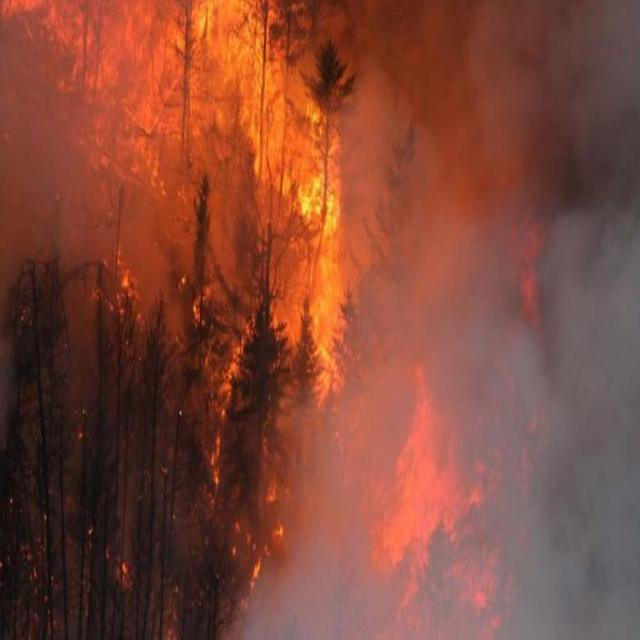Fire: (184, 18, 348, 400), (372, 382, 528, 628)
